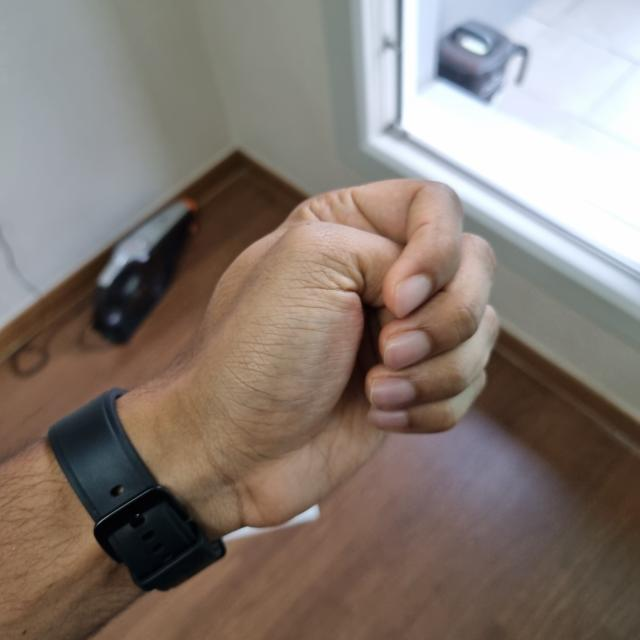Rock: (116, 173, 492, 525)
